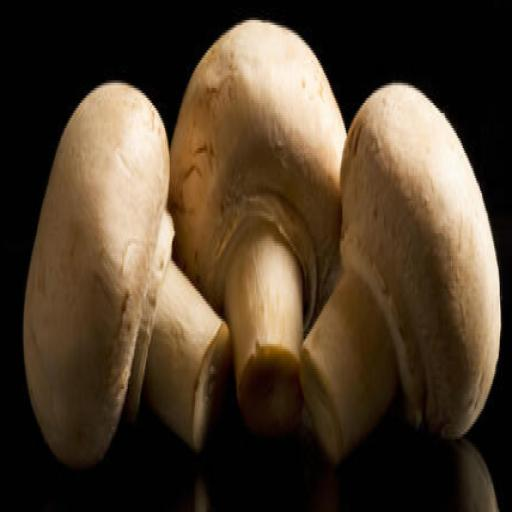Button Mushroom: (22, 79, 229, 467), (312, 66, 506, 458), (168, 18, 344, 382)
